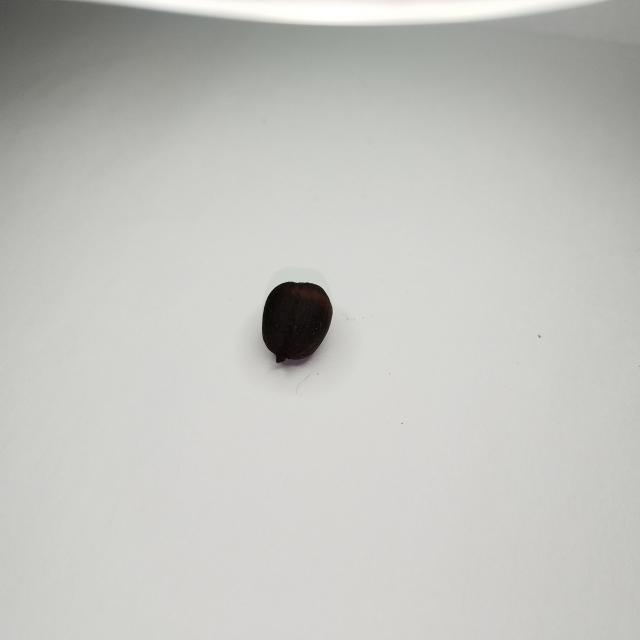Danado: (262, 281, 333, 364)
